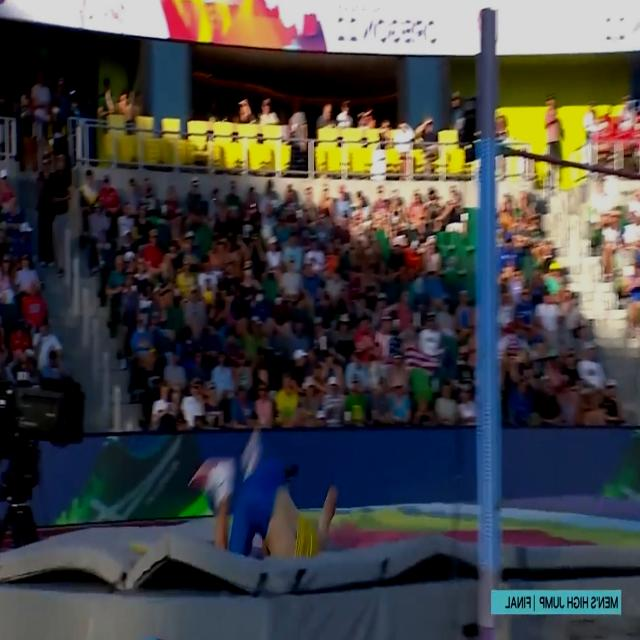land: (191, 430, 339, 560)
